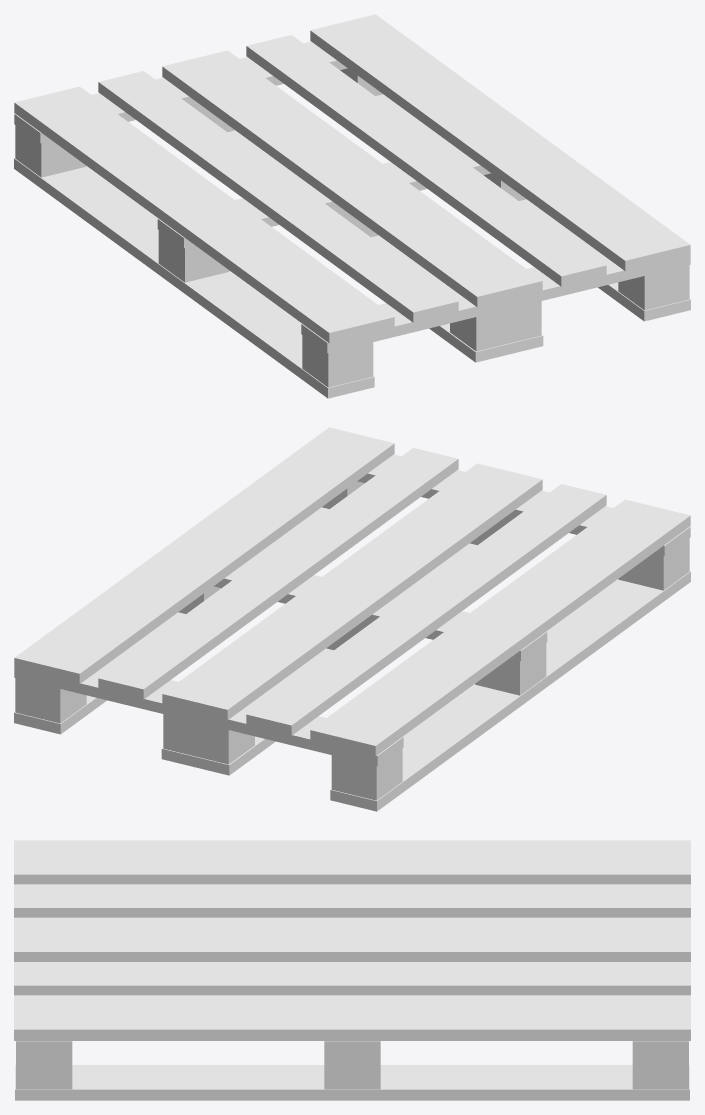
Rendered from Prop_Wooden_Pallet_01.glb.
3 renders of one model, top to bottom at view 1: azimuth 30°, elevation 25°; view 2: azimuth 150°, elevation 25°; view 3: azimuth 270°, elevation 25°, orthographic. The views are drawn at different scales.
Parts seen in each view (by area): view 1: Prop_Wooden_Pallet_01; view 2: Prop_Wooden_Pallet_01; view 3: Prop_Wooden_Pallet_01.
Part boxes in pixels (box(x1,y1,x2,y2)): Prop_Wooden_Pallet_01: box(14, 14, 690, 398); Prop_Wooden_Pallet_01: box(14, 427, 690, 811); Prop_Wooden_Pallet_01: box(14, 840, 690, 1100).
Bounding box in the file's own units: 0.8044 × 0.1392 × 1.21.
1 material, 1 textured.
